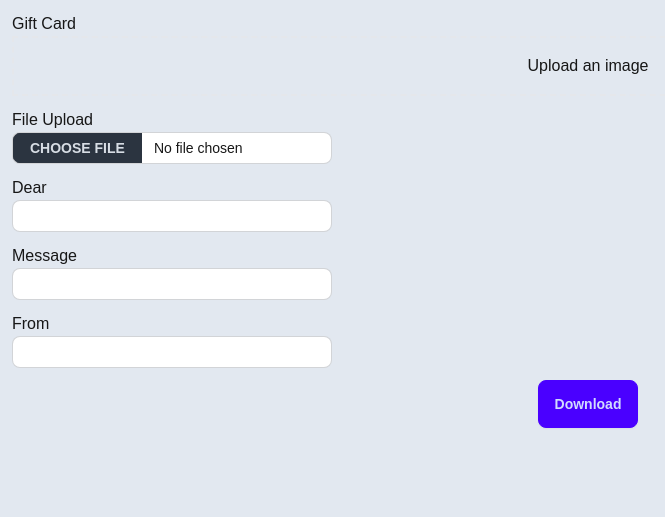
it: GiftCard › should show validation errors when form is not filled
Click the button "Download" at (588, 404), box top-left (538, 380), bottom-right (638, 428)
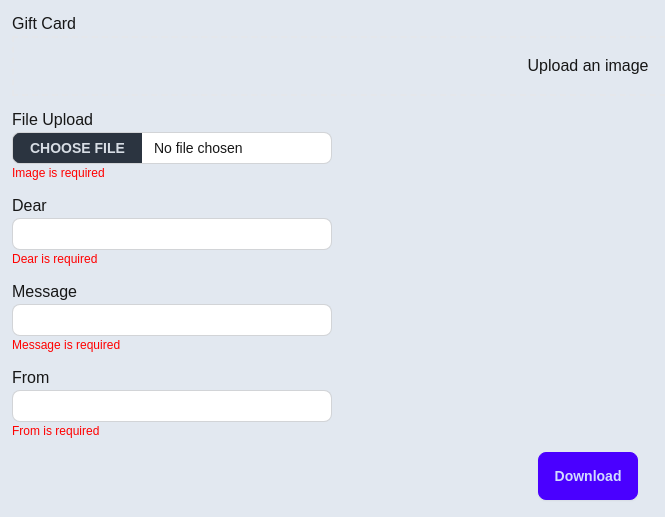
Expected: the text "Dear is required" is shown, top-left (12, 252), bottom-right (97, 266)
Expected: the text "Message is required" is shown, top-left (12, 338), bottom-right (120, 352)
Expected: the text "From is required" is shown, top-left (12, 424), bottom-right (99, 438)
